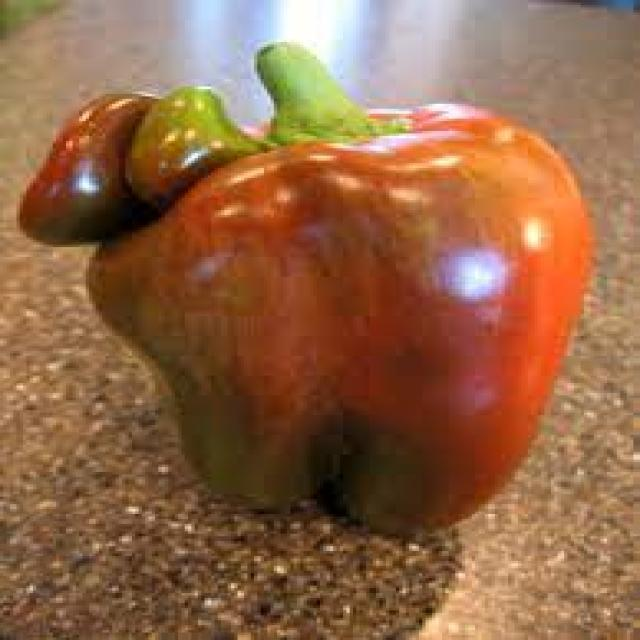bell_pepper: (29, 38, 597, 558)
